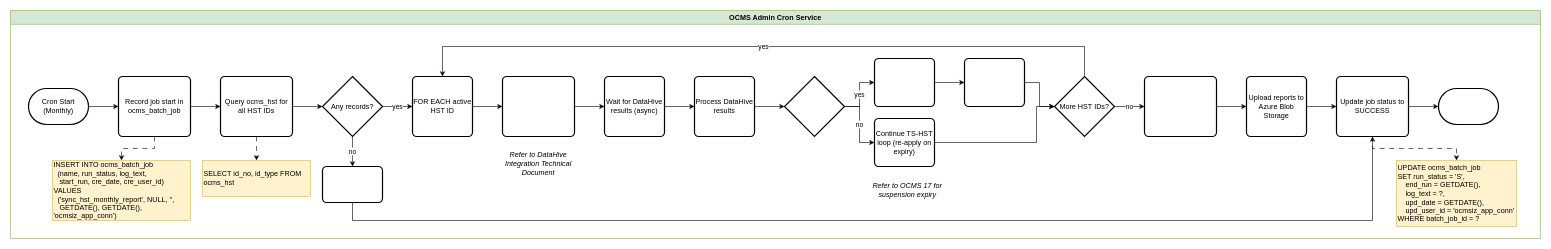
This 1551x249 diagram has some shape labels left out. The centre of each missing label's shape, as x and y in pixels:
"End" goes at pixel 1468 106.
"Generate Monthly HST Summary Report" goes at pixel 1180 106.
"Generate New Address report" goes at pixel 994 82.
"Log: No active HST" goes at pixel 352 184.
"New address found?" goes at pixel 814 106.
"Queue ID for DataHive query (NRIC/FIN/UEN)" goes at pixel 538 106.
"Store new address in temp table" goes at pixel 904 82.
